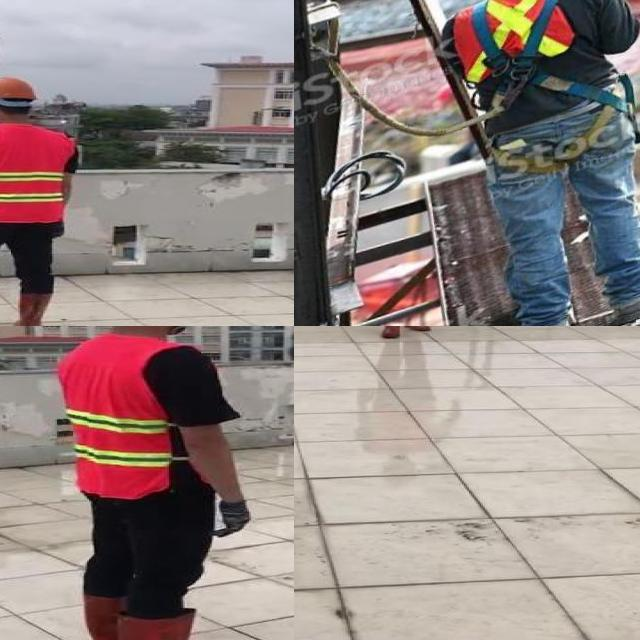Harness: (472, 0, 627, 113)
boots: (122, 610, 243, 640), (77, 587, 130, 640), (13, 294, 52, 326), (375, 326, 407, 339)
hand_glove: (214, 497, 250, 539), (54, 221, 66, 241)
head_helmet: (0, 75, 38, 102)
person: (36, 326, 264, 640), (0, 74, 82, 326)
vest: (57, 334, 174, 498), (0, 126, 71, 220)
